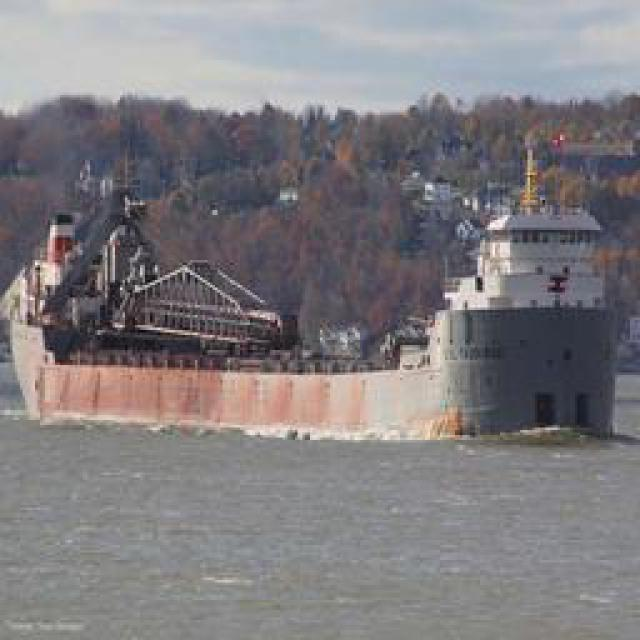Ship: (5, 135, 640, 460)
